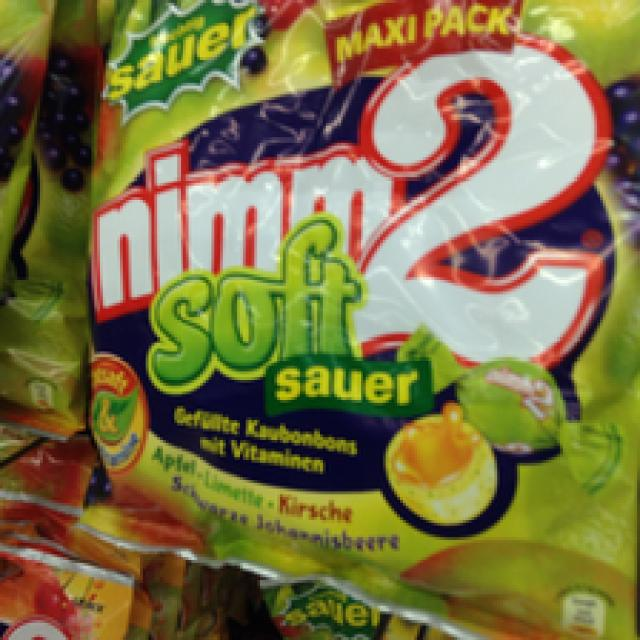groceries: (100, 3, 611, 614)
